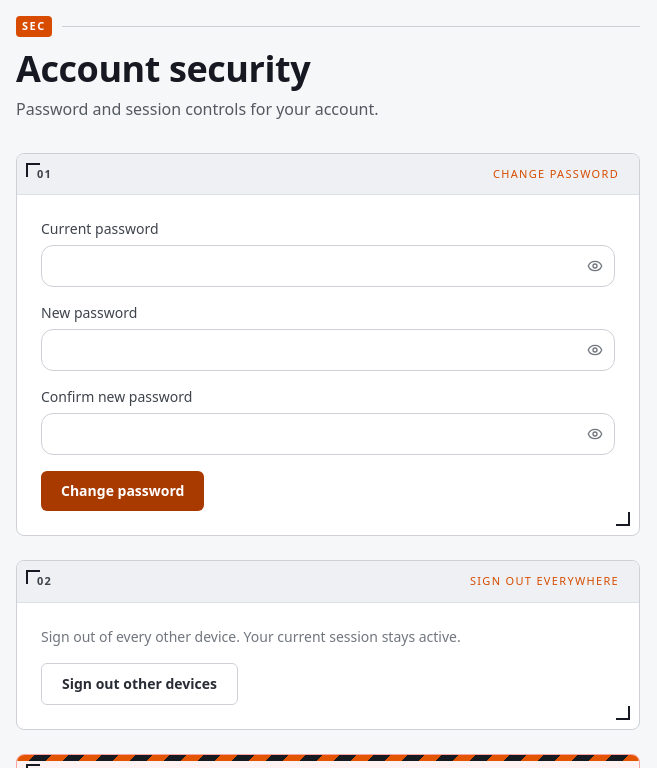
Test: SecuritySettings — change password › posts a matching password change and toasts success
This screenshot has width=657, height=768.
Type "oldpass1" into the password field labelled "Current password" at [328, 266], box [41,245,615,287]
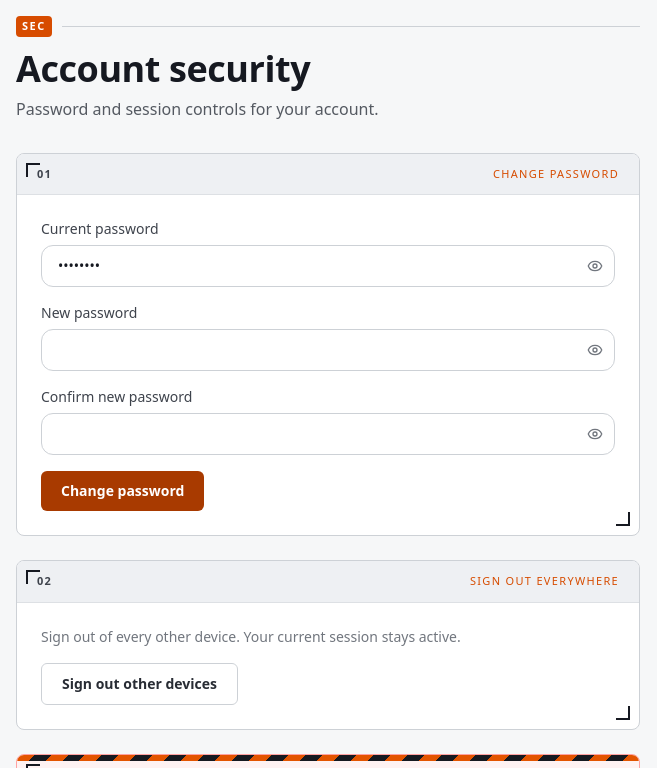
Type "newpass1" into the password field labelled "New password" at [328, 350], box [41,329,615,371]
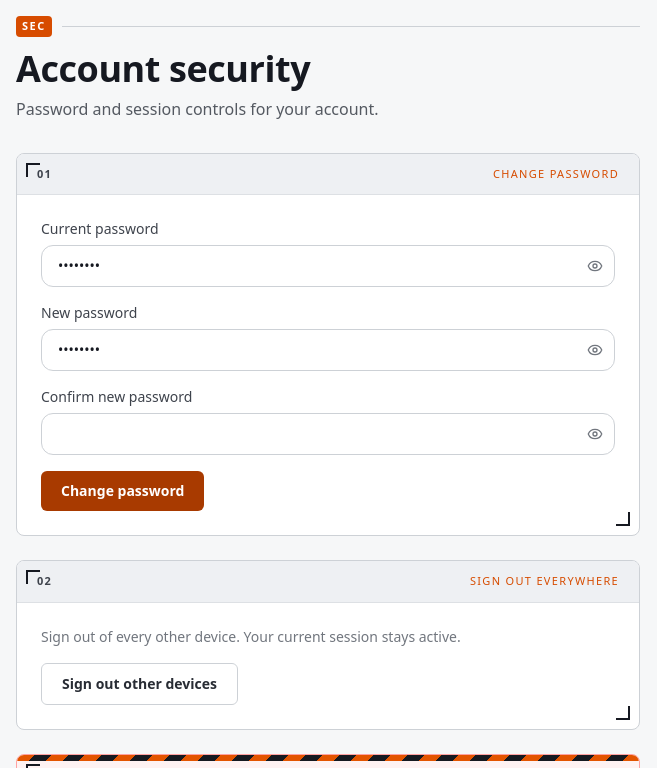
Type "newpass1" into the password field labelled "Confirm new password" at [328, 434], box [41,413,615,455]
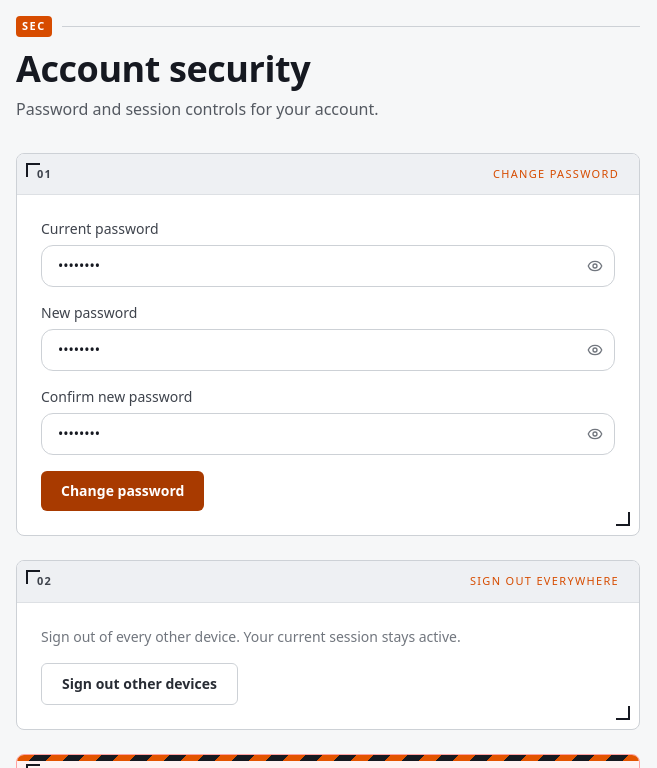
Submit the form "Change password", box [16,152,640,536]
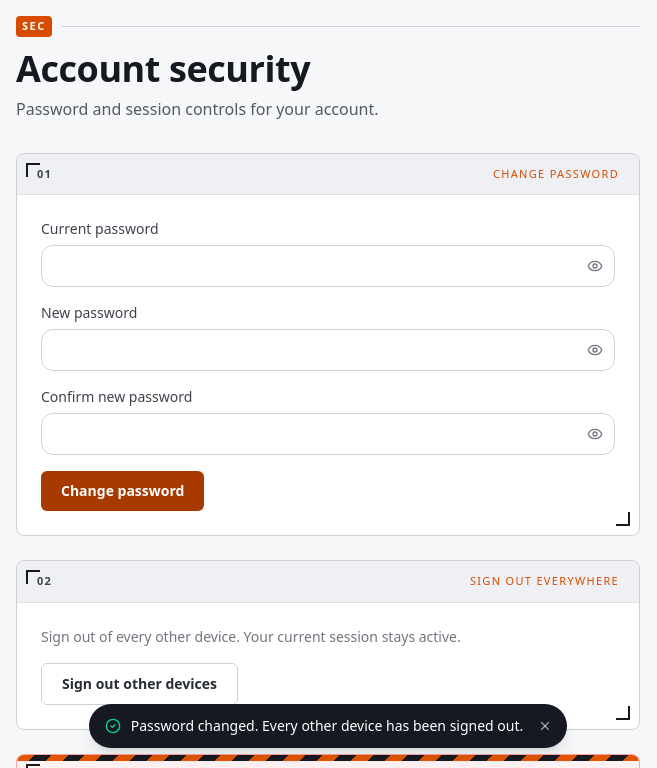
Expected: the message reads "Password changed. Every other device has been signed out.", [131,716,523,735]
